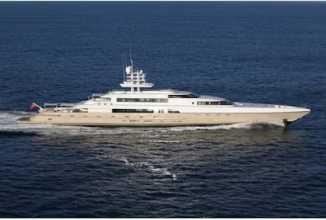yacht: (20, 71, 309, 129)
